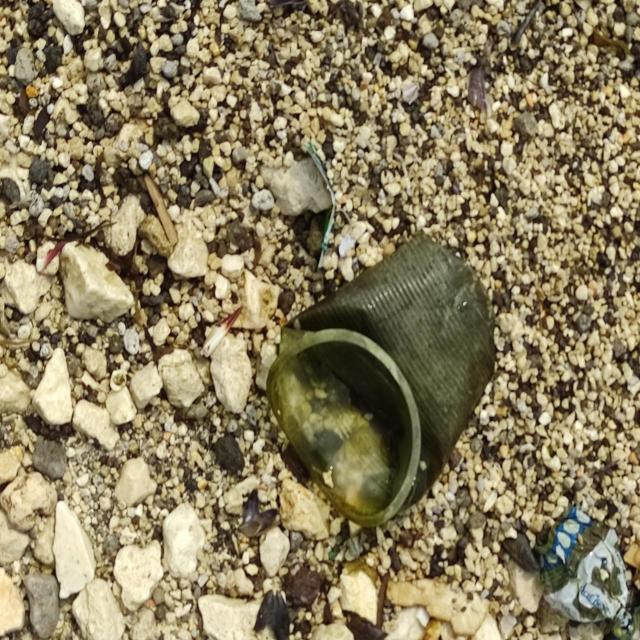plastic_waste: (267, 236, 497, 529), (542, 509, 638, 636)
